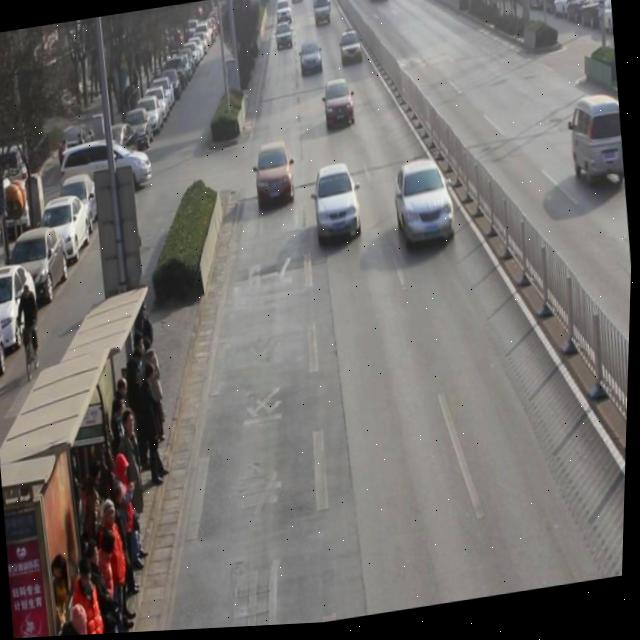car: (392, 159, 461, 260), (311, 163, 366, 251), (252, 141, 298, 213), (321, 79, 357, 135), (298, 43, 326, 80), (339, 32, 364, 71), (273, 21, 294, 55)
truck: (568, 97, 628, 196)
